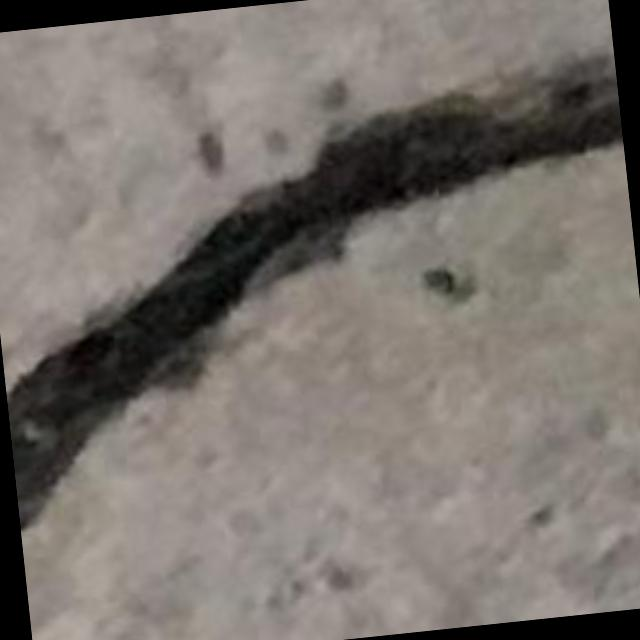crack: (7, 60, 622, 528)
